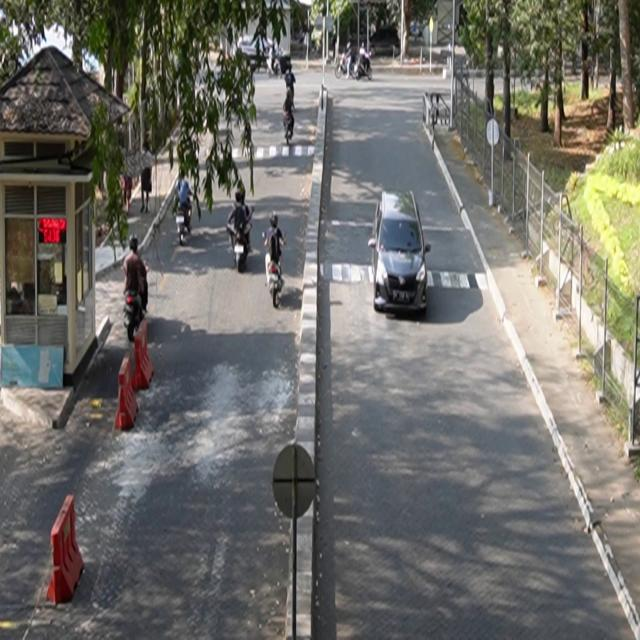car: (369, 190, 432, 315)
